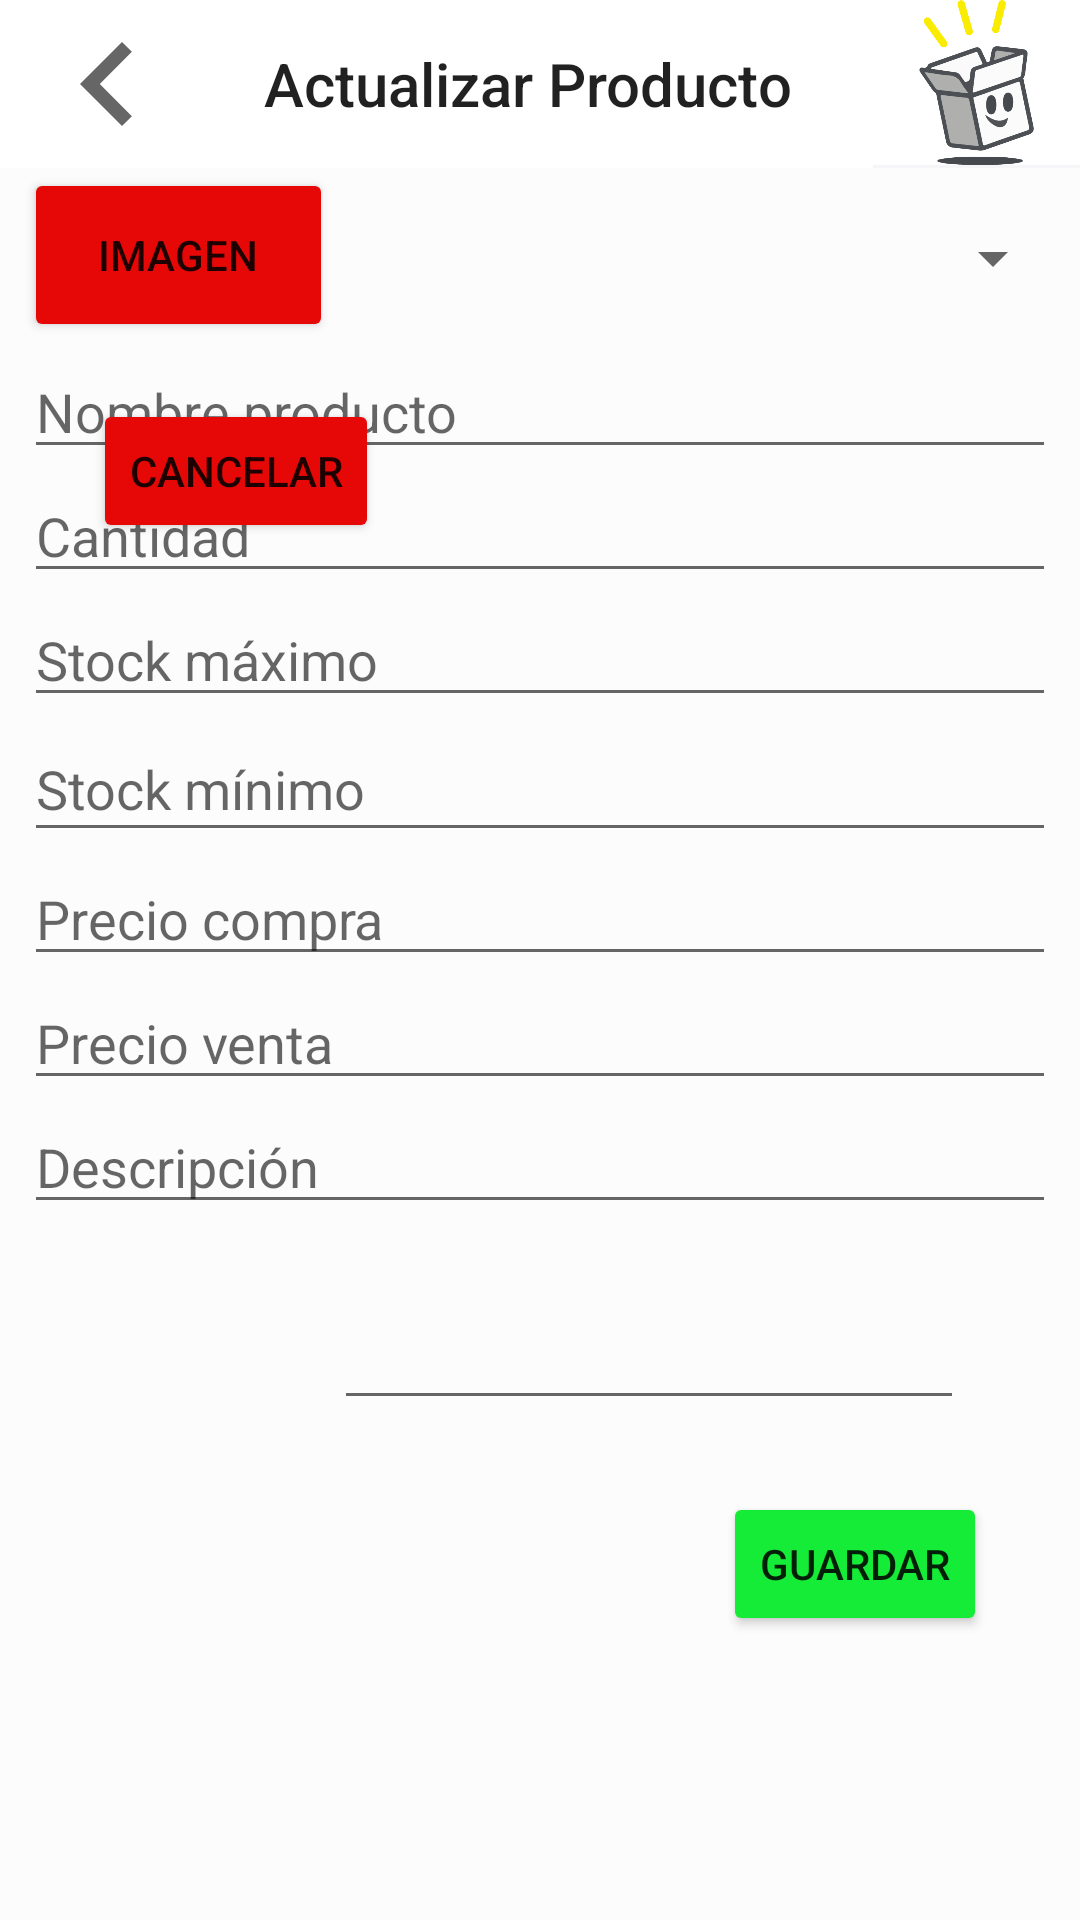

Icons on this 1080px×1920px Android screen, each with the point to tap as (x=x, y=y):
chevron left: (x=106, y=84)
